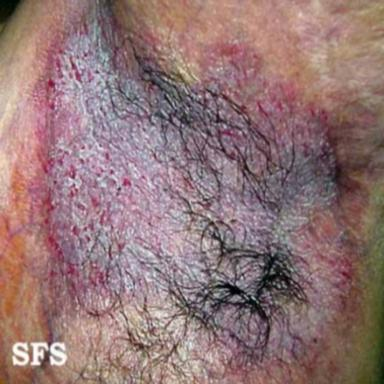Hailey-Hailey-Disease: (43, 3, 350, 361)
